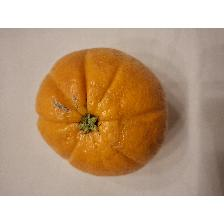Orange: (34, 46, 170, 178)
